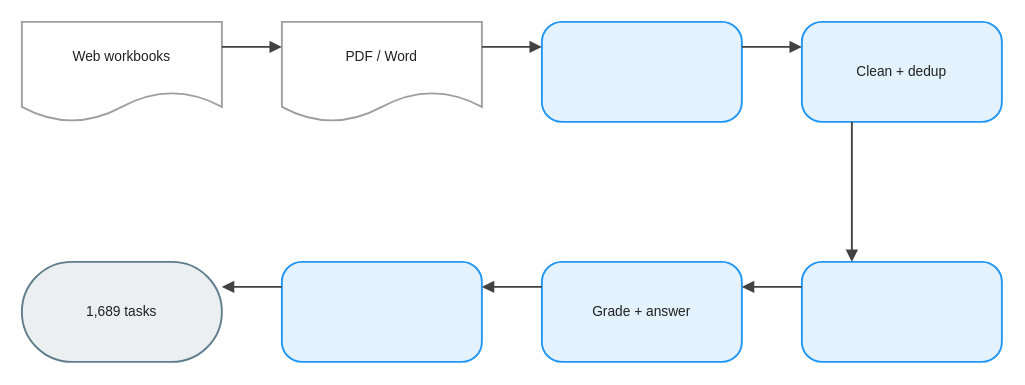
The diagram is 1025 pixels wide and 385 high, and some of its shapes have lost their labels. Each missing label, with the centre of its shape:
"Author review" belongs at [901,311].
"Steps + digits" belongs at [381,311].
"Text convert" belongs at [641,71].
